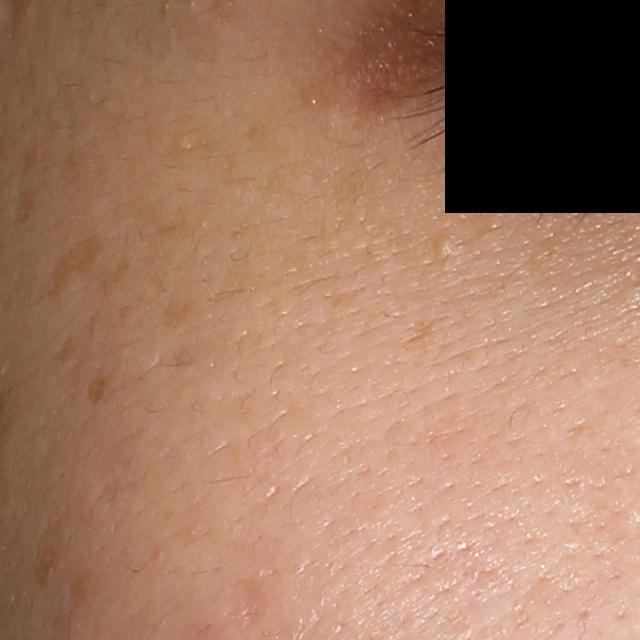atrophic_scar: (221, 574, 266, 636)
comedo: (431, 234, 453, 258)
melasma: (42, 233, 106, 298), (102, 256, 134, 297), (159, 299, 201, 327), (50, 336, 76, 362)
